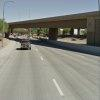Bridge: (8, 10, 98, 34)
